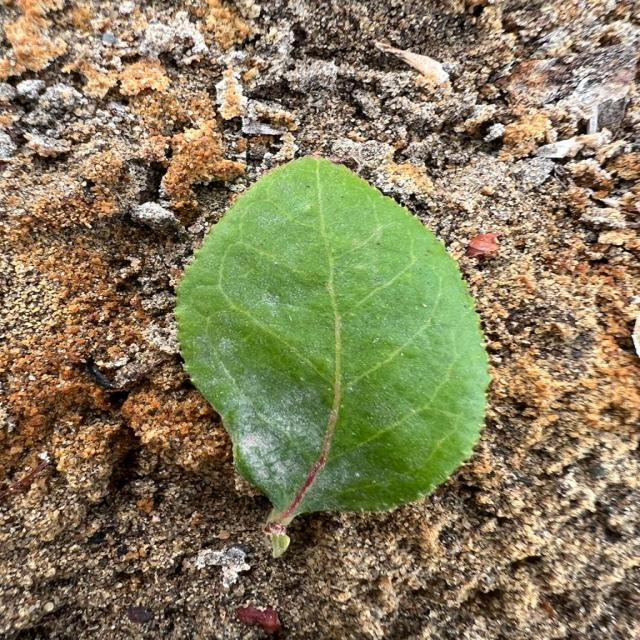Hojas con oidiosis: (170, 154, 494, 541)
